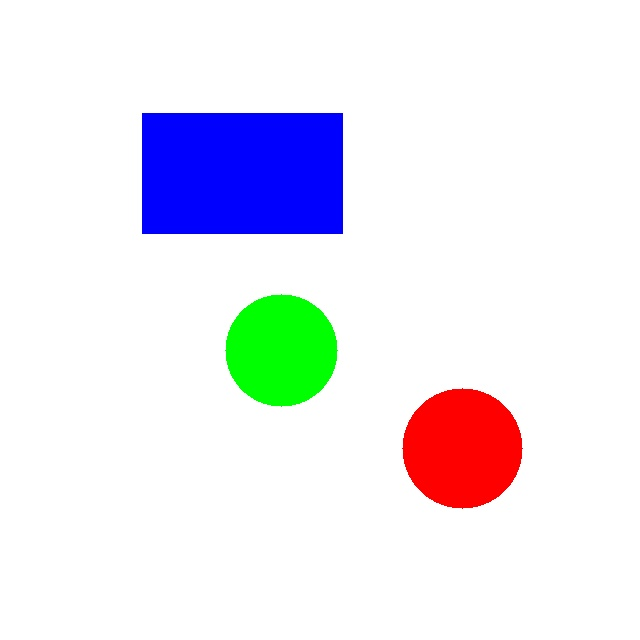cartao: (142, 113, 342, 233)
rosca_externa: (225, 294, 337, 406)
rosca_interna: (402, 388, 522, 508)
